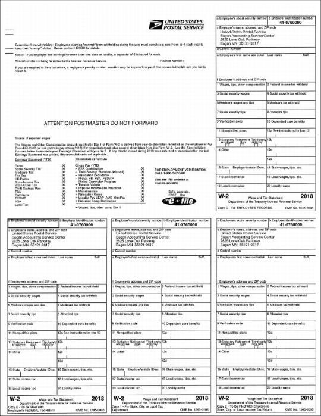checkbox: (29, 343, 37, 351), (42, 342, 50, 350), (223, 342, 231, 350), (14, 343, 21, 351), (134, 342, 142, 349), (146, 342, 154, 349), (239, 342, 246, 350), (224, 141, 231, 148), (239, 141, 246, 148), (252, 342, 259, 349), (253, 140, 259, 148), (119, 343, 125, 350)
textbox: (5, 224, 110, 251), (214, 51, 319, 77), (213, 23, 318, 49), (4, 254, 109, 280), (108, 254, 213, 280), (214, 254, 319, 280), (215, 225, 320, 251), (108, 225, 213, 251), (214, 346, 269, 369), (6, 347, 60, 370), (213, 145, 269, 167), (110, 347, 163, 370), (214, 14, 269, 27), (5, 216, 60, 229), (110, 214, 164, 227), (265, 107, 317, 120), (265, 145, 317, 158), (265, 154, 317, 167), (265, 162, 317, 175), (212, 117, 268, 129), (212, 108, 268, 120), (266, 14, 317, 27), (267, 216, 318, 229), (58, 216, 109, 229), (214, 172, 269, 184), (213, 164, 268, 176), (213, 126, 268, 138), (213, 99, 268, 111), (214, 89, 269, 101), (213, 80, 268, 92), (216, 217, 271, 229), (6, 282, 60, 294), (4, 292, 58, 304), (5, 301, 59, 313), (55, 329, 109, 341), (54, 310, 108, 322), (54, 301, 108, 313), (53, 309, 107, 321), (56, 292, 110, 304), (55, 338, 109, 350), (54, 356, 108, 368), (54, 346, 108, 358), (55, 365, 109, 377), (54, 384, 108, 396), (5, 384, 59, 396), (5, 375, 59, 387), (5, 365, 59, 377), (110, 282, 164, 294), (159, 292, 213, 304), (157, 310, 211, 322), (158, 319, 212, 331), (159, 347, 213, 359), (159, 356, 213, 368), (158, 365, 212, 377), (157, 384, 211, 396), (110, 383, 164, 395), (214, 383, 268, 395), (264, 383, 318, 395), (262, 327, 316, 339), (214, 310, 268, 322), (265, 290, 319, 302), (215, 291, 269, 303), (55, 291, 108, 303), (54, 281, 107, 293), (5, 310, 58, 322), (55, 374, 108, 386), (159, 282, 212, 294), (110, 292, 163, 304), (110, 301, 163, 313), (110, 310, 163, 322), (109, 328, 162, 340), (158, 337, 211, 349), (110, 374, 163, 386), (109, 365, 162, 377), (159, 374, 212, 386), (215, 365, 268, 377), (265, 365, 318, 377), (264, 357, 317, 369), (215, 319, 268, 331), (265, 318, 318, 330), (214, 318, 267, 330), (264, 308, 317, 320), (215, 281, 268, 293), (267, 282, 320, 294), (265, 80, 317, 92), (265, 99, 317, 111), (265, 117, 317, 129), (265, 126, 317, 138), (265, 136, 317, 148), (265, 181, 317, 193), (214, 182, 270, 193), (266, 89, 317, 101), (266, 172, 317, 184), (162, 217, 213, 229), (5, 329, 59, 340), (159, 301, 213, 312), (158, 329, 212, 340), (264, 373, 318, 384), (264, 348, 318, 359), (5, 320, 58, 331), (110, 320, 163, 331), (161, 329, 214, 340), (215, 373, 268, 384), (264, 329, 317, 340), (215, 301, 268, 312), (265, 301, 318, 312)
